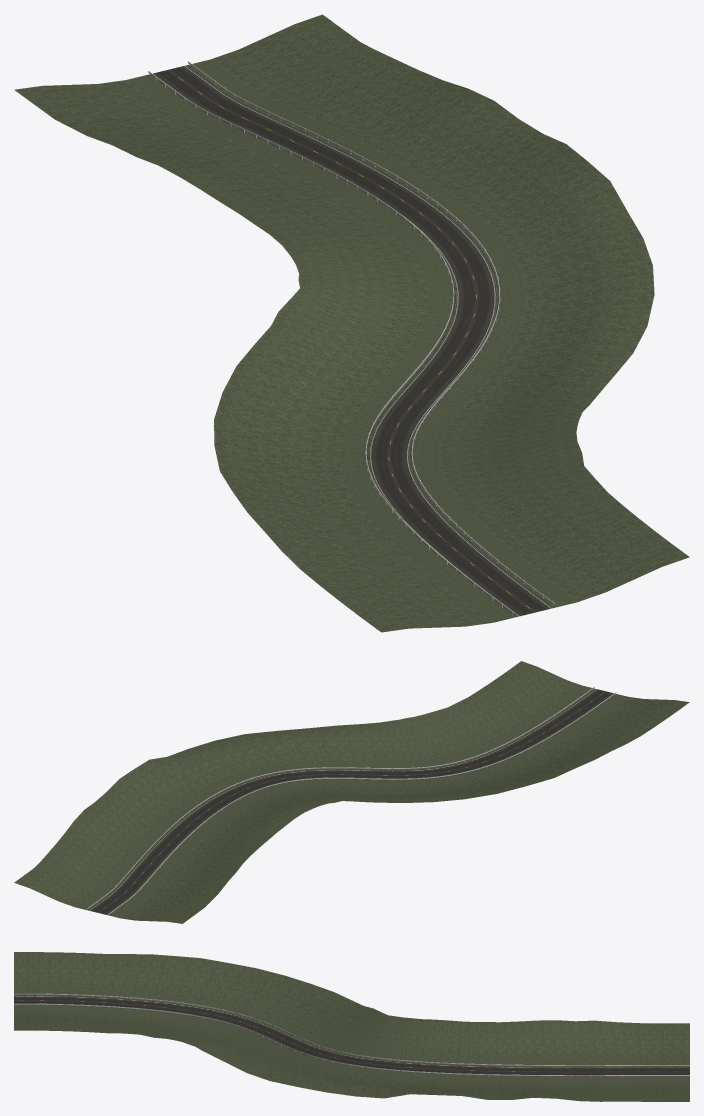
3 views of the same model, one above another, from view 1: azimuth 30°, elevation 25°; view 2: azimuth 150°, elevation 25°; view 3: azimuth 270°, elevation 25° (orthographic). The views are drawn at different scales.
Parts seen in each view (by area): view 1: Grass, HighWay, GuardRail; view 2: Grass, HighWay, GuardRail; view 3: Grass, HighWay, GuardRail.
Part boxes in pixels (x1,y1,x2,y2): Grass: (14,14,689,632); HighWay: (149,65,554,616); GuardRail: (148,61,555,615); Grass: (14,661,689,923); HighWay: (88,688,615,915); GuardRail: (87,686,616,914); Grass: (14,952,689,1101); HighWay: (14,995,689,1076); GuardRail: (14,993,689,1076).
Size of what is drawn, in the model's own units: 219 by 16.38 by 400.
